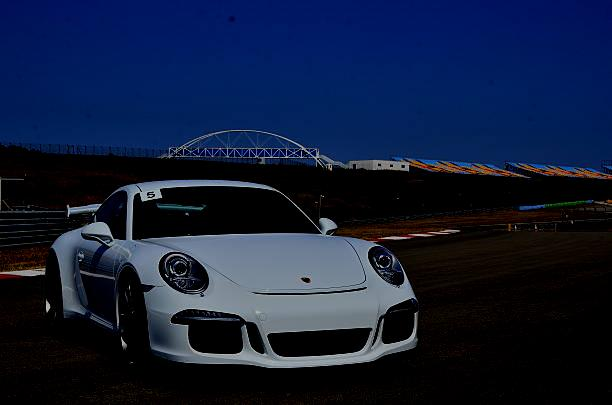porsche: (298, 275, 315, 286)
